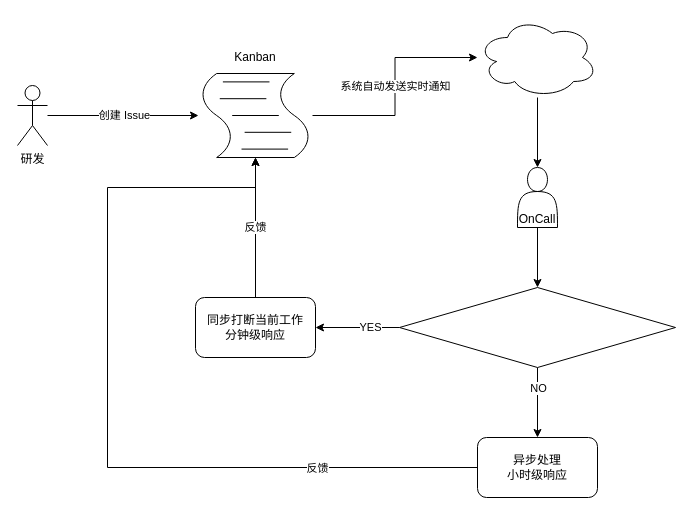
The diagram is 693 pixels wide and 515 high, and some of its shapes have lost their labels. Here are the shapes that lost their labels. From the top down, the box of each, then its label:
(476, 16, 598, 98): OnCall 群
(398, 286, 676, 368): 是否是紧急事件?
